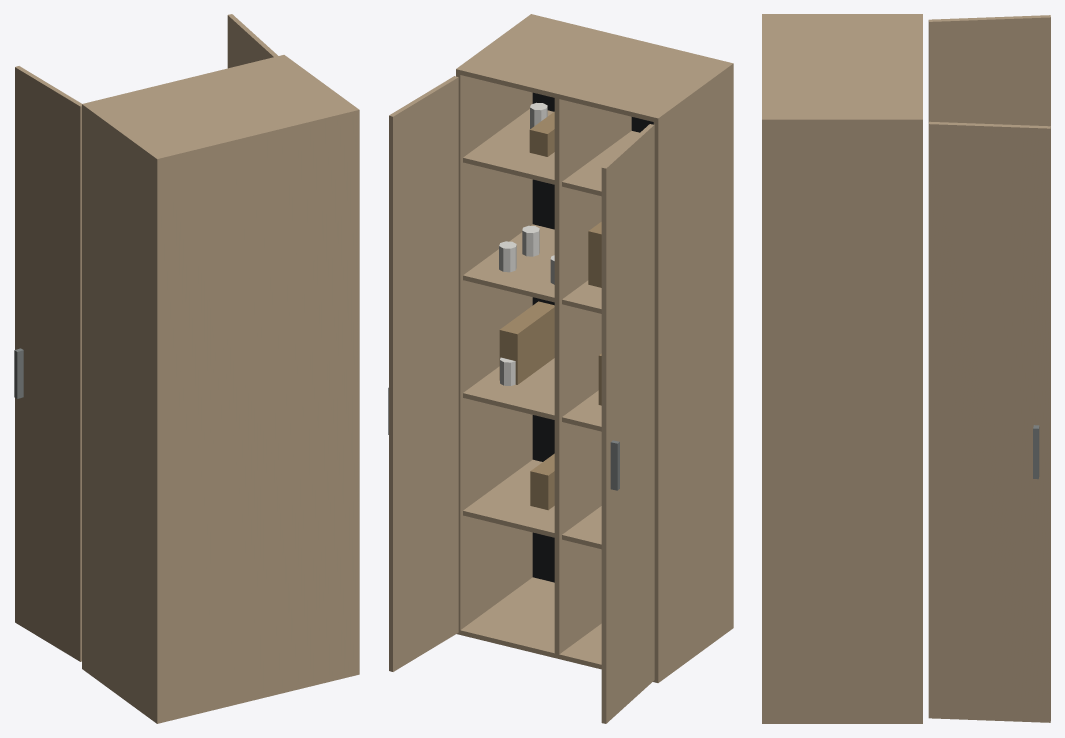
File: builtin_cabinet.fbx
3 views of the same model, side by side, from view 1: azimuth 30°, elevation 25°; view 2: azimuth 150°, elevation 25°; view 3: azimuth 270°, elevation 25° (orthographic). The views are drawn at different scales.
Visible parts, largest first — view 1: builtin_cabinet, builtin_cabinet_doorL, builtin_cabinet_doorR; view 2: builtin_cabinet, builtin_cabinet_doorR, builtin_cabinet_doorL; view 3: builtin_cabinet, builtin_cabinet_doorR, builtin_cabinet_doorL.
Part boxes in pixels (left/top/right/bottom): builtin_cabinet: left=82, top=55, right=359, bottom=723; builtin_cabinet_doorL: left=14, top=66, right=81, bottom=661; builtin_cabinet_doorR: left=227, top=14, right=277, bottom=68; builtin_cabinet: left=456, top=14, right=733, bottom=682; builtin_cabinet_doorR: left=388, top=76, right=458, bottom=671; builtin_cabinet_doorL: left=601, top=124, right=654, bottom=723; builtin_cabinet: left=762, top=14, right=922, bottom=723; builtin_cabinet_doorR: left=928, top=121, right=1050, bottom=722; builtin_cabinet_doorL: left=928, top=15, right=1050, bottom=126.
Size of the model in its own units: 1.02 by 2.4 by 1.04.
